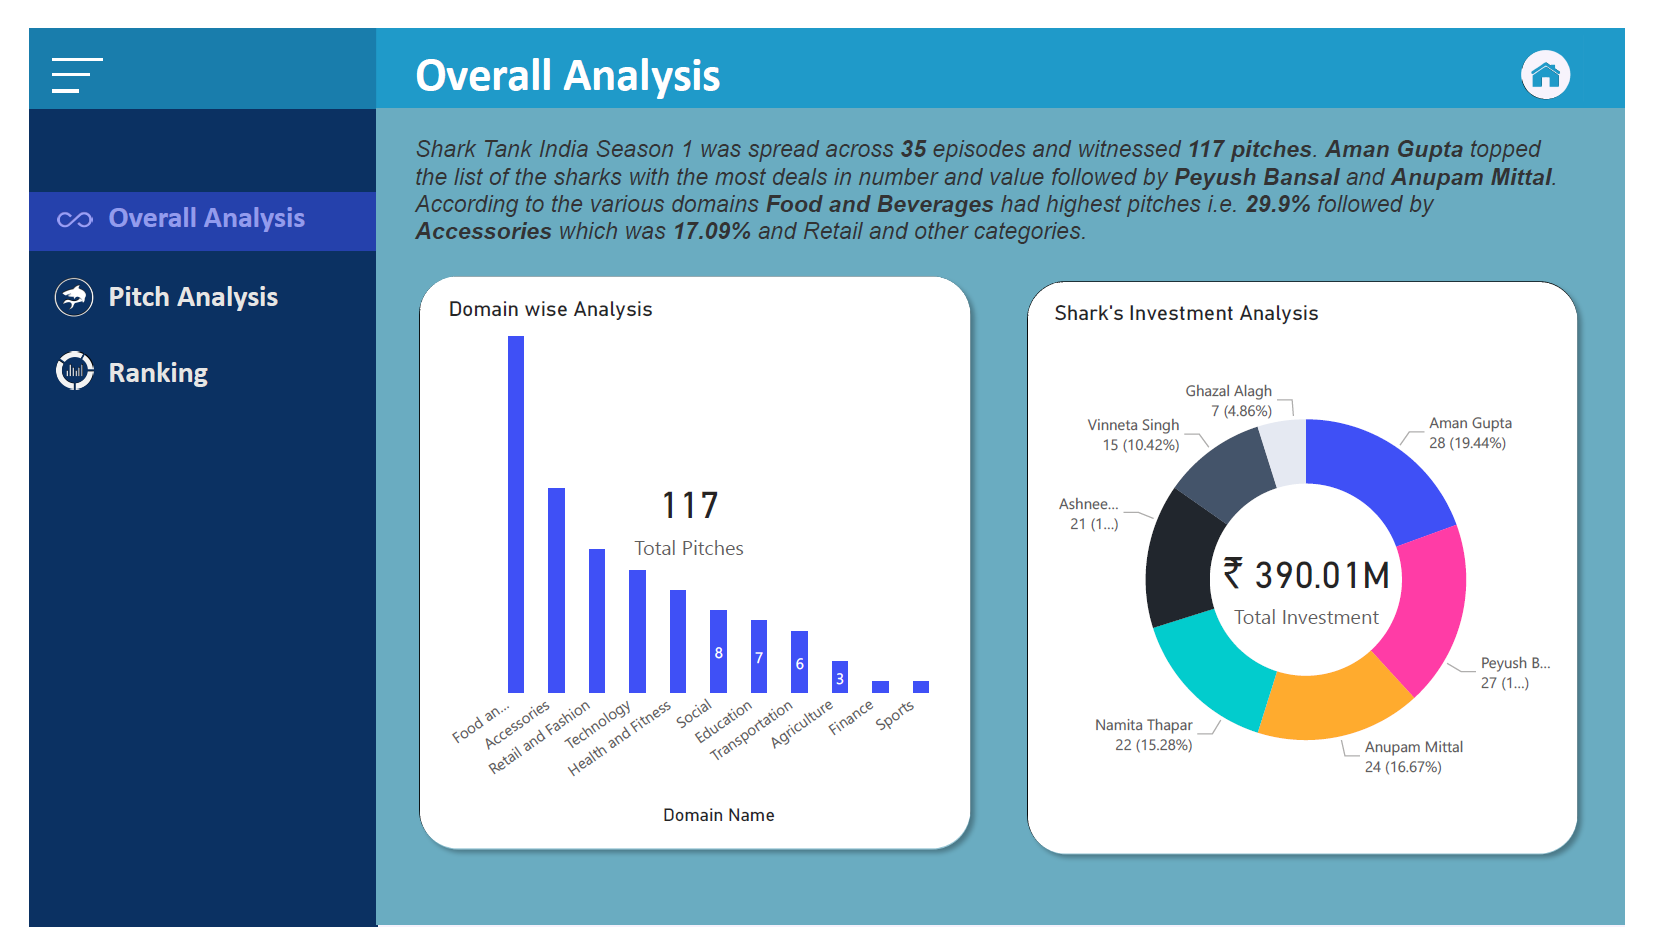

The dashboard page shown, as its layout file describes it:
{"tool":"powerbi","page":{"name":"Overall Analysis","canvas":[1280,720],"ordinal":2},"visuals":[{"type":"ribbonChart","title":"Domain wise Analysis","fields":{"Category":["Domain.Domain Name"],"Y":["Sum(Domain.No. of pitches)"]},"box":[288.2,149.5,572.9,511.4],"z":0},{"type":"donutChart","title":"Shark''s Investment Analysis","fields":{"Category":["Sharks.Name of sharks"],"Y":["Sum(Sharks.Total Companies  (Numbers))"]},"box":[682.6,177.2,575.5,512.3],"z":1000},{"type":"actionButton","box":[0,38.5,57.7,52.2],"z":2000},{"type":"actionButton","box":[0,111.2,57.7,52.2],"z":3000},{"type":"actionButton","box":[0,188.2,57.7,52.2],"z":4000},{"type":"actionButton","box":[0,265.1,57.7,52.2],"z":5000},{"type":"card","fields":{"Values":["Sum(Domain.No. of pitches)"]},"box":[303.5,390,129.1,86.5],"z":6000},{"type":"card","fields":{"Values":["Sum(Sharks.Total Investment  (Numbers))"]},"box":[891.3,377.7,157.9,111.2],"z":7000},{"type":"textbox","box":[102.8,154.2,1177.8,137.5],"z":8000},{"type":"shape","box":[0,0,278.6,720],"z":9000},{"type":"shape","box":[278.3,0,1002.2,64.4],"z":10000},{"type":"shape","box":[278.6,0,1002.2,63.9],"z":11000},{"type":"shape","box":[0,0,278.6,63.9],"z":12000},{"type":"shape","box":[18.1,0,39.8,49.4],"z":13000},{"type":"shape","box":[18.2,12,30.2,49.5],"z":14000},{"type":"shape","box":[18.1,25.3,20.5,49.4],"z":15000},{"type":"textbox","box":[57.5,131.1,188.7,44.3],"z":16000},{"type":"textbox","box":[57.5,194.3,188.7,44.3],"z":17000},{"type":"textbox","box":[58.5,254.7,188.7,44.3],"z":18000},{"type":"image","box":[16.9,131.5,38.6,43.4],"z":19000},{"type":"image","box":[16,249.1,39.6,50],"z":20000},{"type":"shape","box":[0,130.6,277.8,47.2],"z":20500},{"type":"image","box":[13.3,190.6,44.6,49.4],"z":21000},{"type":"shape","box":[277.8,63.9,1002.8,655.6],"z":22000},{"type":"textbox","box":[304.2,8.3,308.3,63.9],"z":23000},{"type":"shape","box":[791.7,194.4,459.7,476.4],"z":23500},{"type":"donutChart","title":"Shark''s Investment Analysis","fields":{"Category":["Sharks.Name of sharks"],"Y":["Sum(Sharks.Total Companies  (Numbers))"]},"box":[816.7,218.1,413.9,429.2],"z":24000},{"type":"card","fields":{"Values":["Sum(Sharks.Total Investment  (Numbers))"]},"box":[948.6,404.2,151.4,84.7],"z":25000},{"type":"shape","box":[304.2,190.3,459.7,476.4],"z":25500},{"type":"ribbonChart","title":"Domain wise Analysis","fields":{"Category":["Domain.Domain Name"],"Y":["Sum(Domain.No. of pitches)"]},"box":[330.6,213.9,409.7,430.6],"z":26000},{"type":"card","fields":{"Values":["Sum(Domain.No. of pitches)"]},"box":[458.3,341.7,141.7,98.6],"z":27000},{"type":"image","box":[1186.1,0,70.8,62.5],"z":28000},{"type":"textbox","box":[304.2,80.6,927.8,113.9],"z":30000}]}

Visuals, with their boxes in screenshot pixels (x1, y1, x2, y2), scaled from the page's 1280x720 canvas onto the 1653x951 screenshot:
"Domain wise Analysis" ribbonChart: box=[372, 197, 1112, 873]
"Shark''s Investment Analysis" donutChart: box=[882, 234, 1625, 911]
actionButton: box=[0, 51, 75, 120]
actionButton: box=[0, 147, 75, 216]
actionButton: box=[0, 249, 75, 318]
actionButton: box=[0, 350, 75, 419]
card - Sum(Domain.No. of pitches): box=[392, 515, 559, 629]
card - Sum(Sharks.Total Investment  (Numbers)): box=[1151, 499, 1355, 646]
textbox: box=[133, 204, 1652, 385]
shape: box=[0, 0, 360, 950]
shape: box=[359, 0, 1652, 85]
shape: box=[360, 0, 1652, 84]
shape: box=[0, 0, 360, 84]
shape: box=[23, 0, 75, 65]
shape: box=[24, 16, 63, 81]
shape: box=[23, 33, 50, 99]
textbox: box=[74, 173, 318, 232]
textbox: box=[74, 257, 318, 315]
textbox: box=[76, 336, 319, 395]
image: box=[22, 174, 72, 231]
image: box=[21, 329, 72, 395]
shape: box=[0, 173, 359, 235]
image: box=[17, 252, 75, 317]
shape: box=[359, 84, 1652, 950]
textbox: box=[393, 11, 791, 95]
shape: box=[1022, 257, 1616, 886]
"Shark''s Investment Analysis" donutChart: box=[1055, 288, 1589, 855]
card - Sum(Sharks.Total Investment  (Numbers)): box=[1225, 534, 1421, 646]
shape: box=[393, 251, 987, 881]
"Domain wise Analysis" ribbonChart: box=[427, 283, 956, 851]
card - Sum(Domain.No. of pitches): box=[592, 451, 775, 582]
image: box=[1532, 0, 1623, 83]
textbox: box=[393, 106, 1591, 257]
